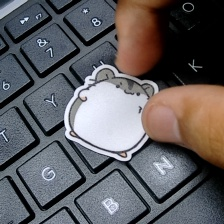mouse: (63, 60, 160, 165)
